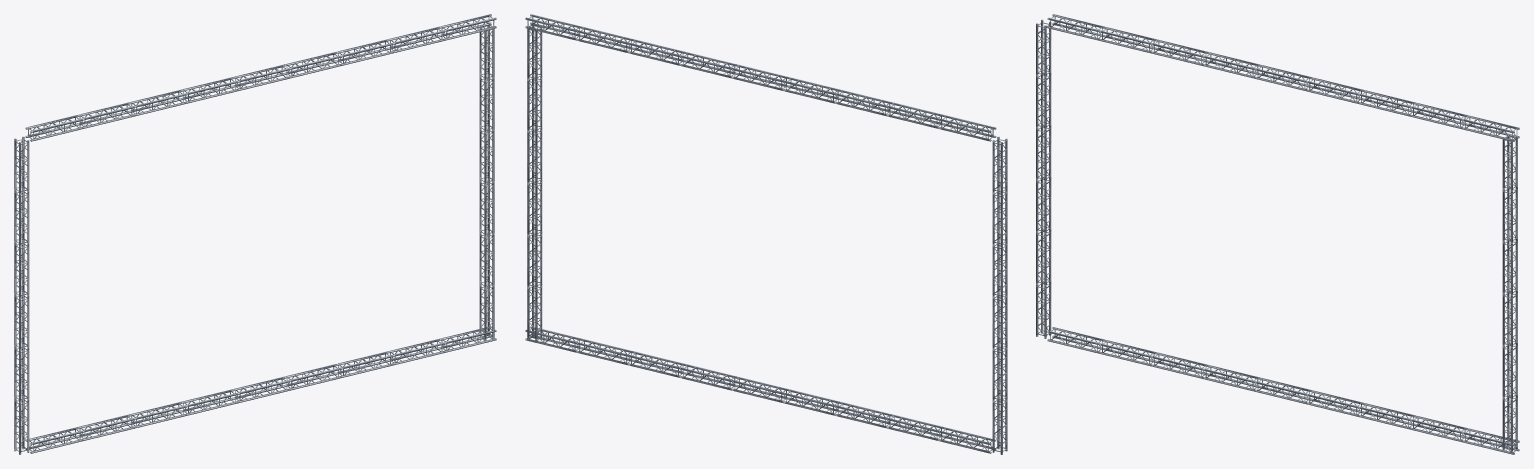
File: raw-center-screen-frame.glb
3 views of the same model, side by side, from view 1: azimuth 30°, elevation 25°; view 2: azimuth 150°, elevation 25°; view 3: azimuth 330°, elevation 25° (orthographic).
Parts seen in each view (by area): view 1: CenterScreenFrame; view 2: CenterScreenFrame; view 3: CenterScreenFrame.
Part boxes in pixels (bbox=[...]): CenterScreenFrame: bbox=[14, 14, 496, 454]; CenterScreenFrame: bbox=[525, 14, 1007, 454]; CenterScreenFrame: bbox=[1036, 14, 1519, 454].
Size of the model in its own units: 39.97 by 25.82 by 0.8631.
1 material, 1 textured.
